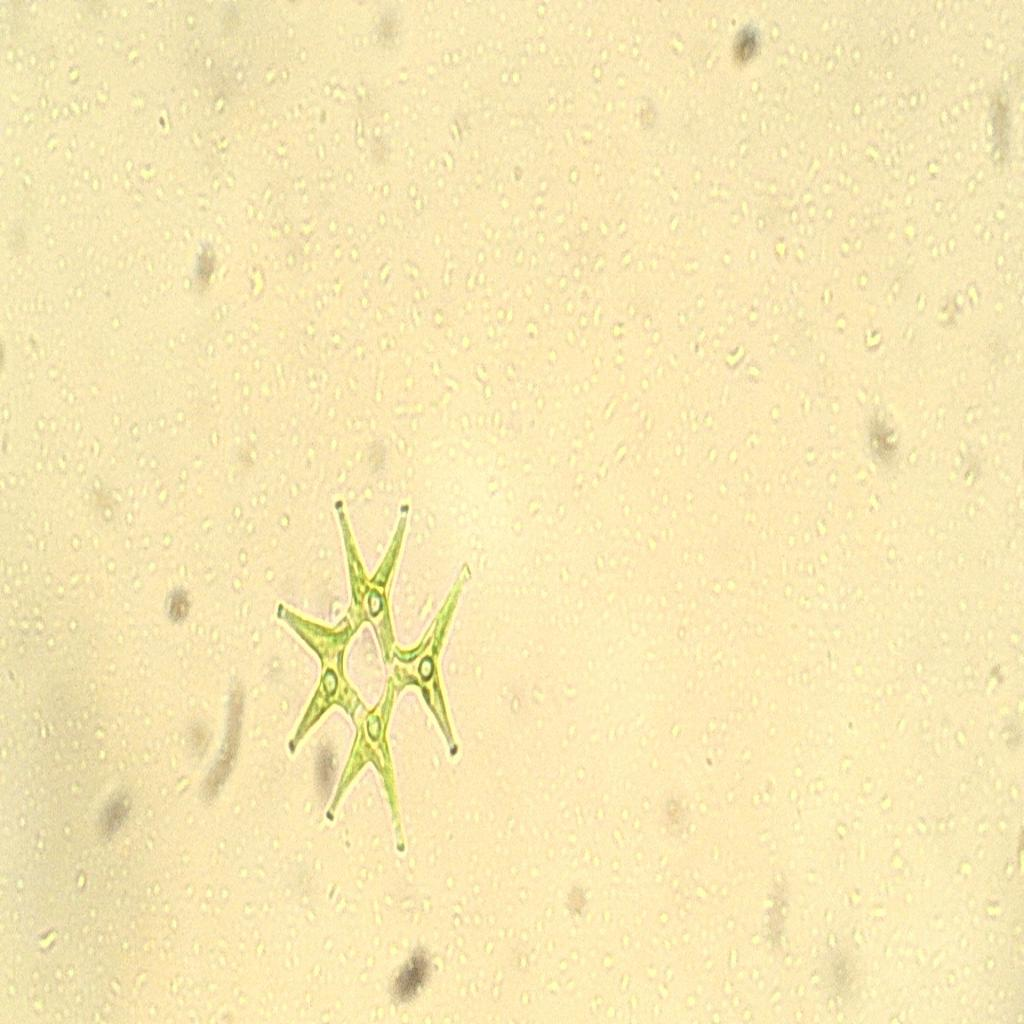Pediastrum_75FI: (251, 486, 499, 866)
